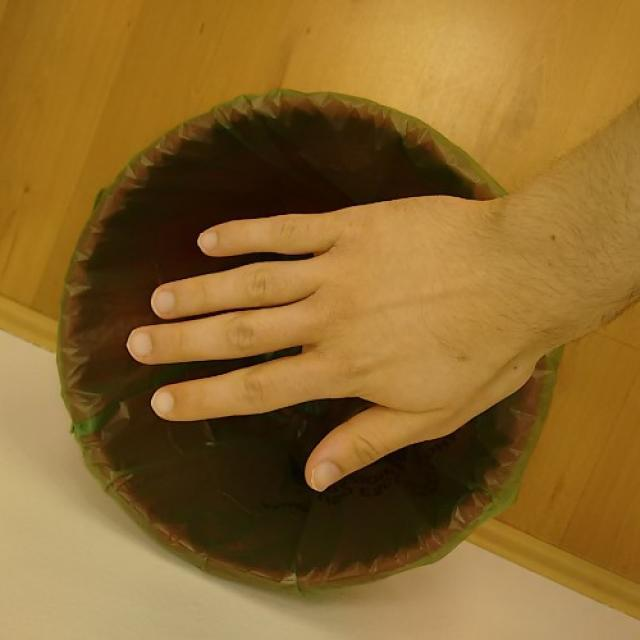paper: (124, 194, 521, 492)
